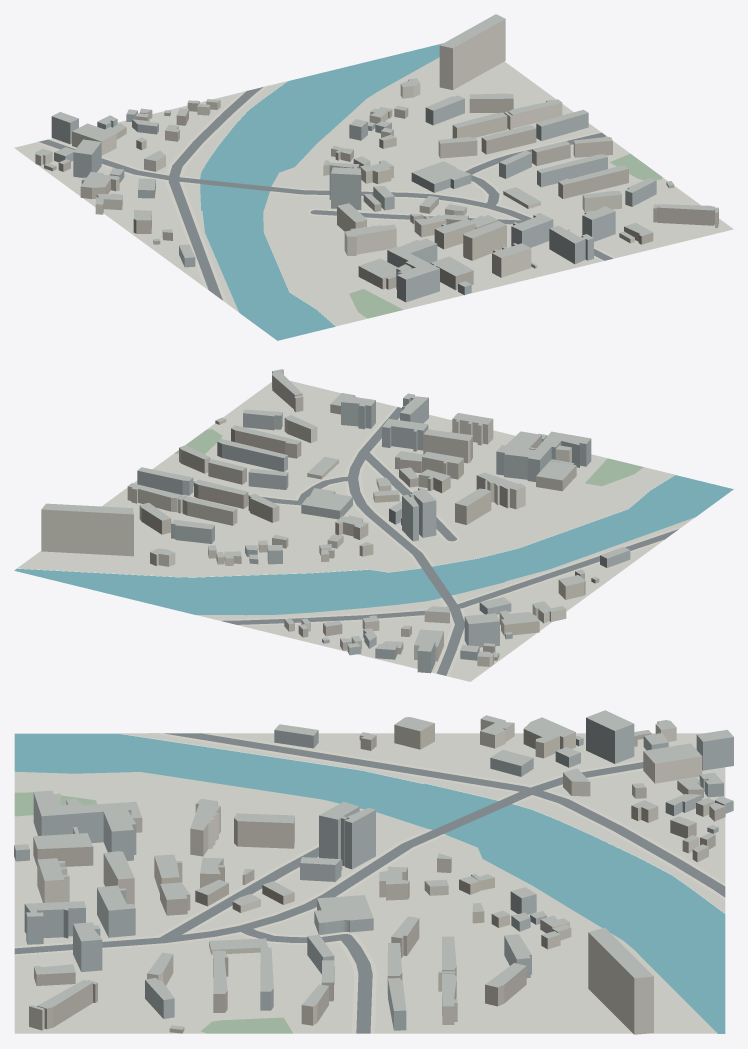
3 views of the same model, one above another, from view 1: azimuth 30°, elevation 25°; view 2: azimuth 150°, elevation 25°; view 3: azimuth 270°, elevation 25° (orthographic). The views are drawn at different scales.
Visible parts, largest first — view 1: city; view 2: city; view 3: city.
Boxes of the visible parts, bbox=[...] form: city: bbox=[14, 14, 733, 340]; city: bbox=[14, 369, 733, 681]; city: bbox=[14, 710, 733, 1034].
Size of the model in its own units: 510 by 44.08 by 507.
